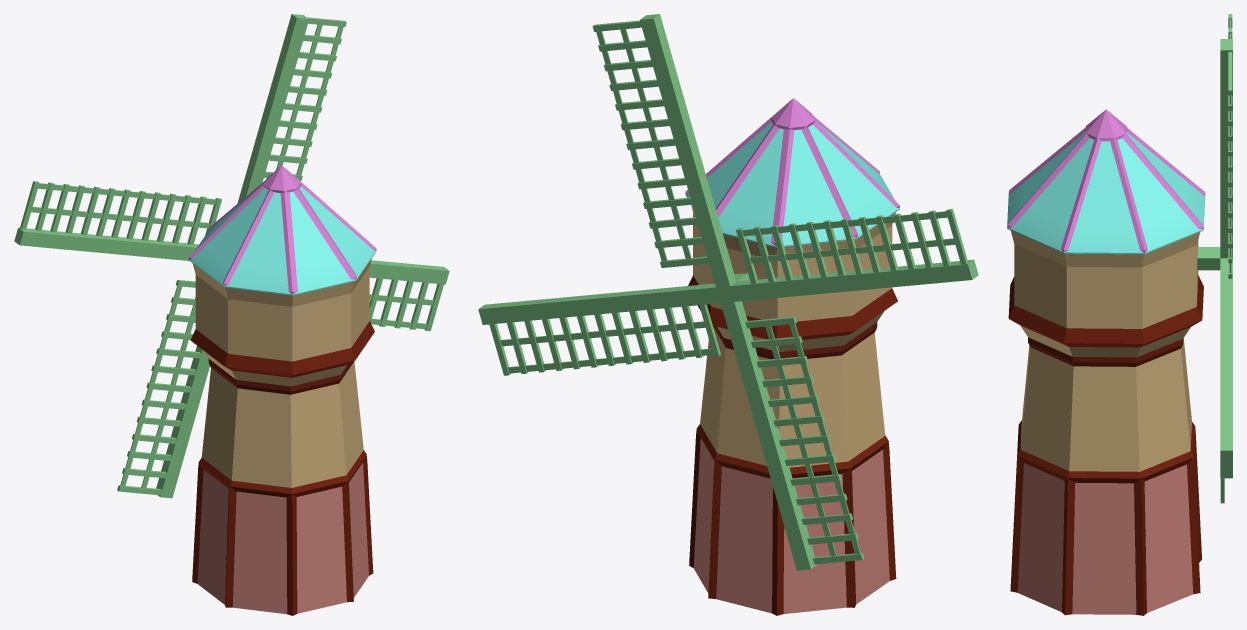
File: sperate mill.fbx
The picture shows the model from 3 angles, left to right: view 1: azimuth 30°, elevation 25°; view 2: azimuth 150°, elevation 25°; view 3: azimuth 270°, elevation 25°; orthographic projection. The views are drawn at different scales.
Parts seen in each view (by area): view 1: windmill, turnbine; view 2: windmill, turnbine; view 3: windmill, turnbine.
Part boxes in pixels (x1,y1,x2,y2): windmill: (189, 165, 376, 615); turnbine: (14, 14, 449, 498); windmill: (685, 98, 899, 615); turnbine: (478, 14, 978, 570); windmill: (1007, 109, 1205, 615); turnbine: (1197, 14, 1232, 503).
Bounding box in the file's own units: 181 × 204 × 73.11.
